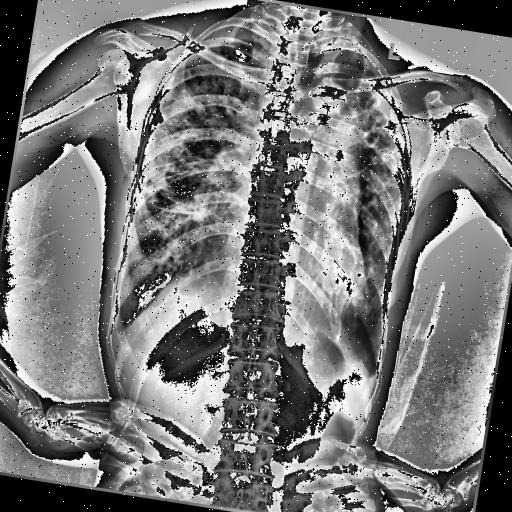1- Atelectasis: (281, 76, 413, 292)
10- Pleural effusion: (101, 310, 132, 350), (354, 360, 384, 396), (362, 354, 387, 388), (110, 316, 134, 344)
11- Pleural thickening: (124, 39, 187, 221), (360, 82, 422, 170), (310, 36, 390, 92), (308, 24, 387, 74), (197, 16, 273, 56), (101, 310, 132, 350), (354, 360, 384, 396), (362, 354, 387, 388), (105, 315, 128, 349), (359, 356, 379, 390), (110, 316, 134, 344)
13- Pulmonary fibrosis: (116, 42, 256, 282), (281, 76, 413, 292), (133, 138, 242, 221)
5- ILD: (116, 42, 256, 282), (281, 76, 413, 292)
6- Infiltration: (112, 0, 433, 362), (274, 63, 417, 345), (117, 34, 265, 300)
9- Other lesion: (116, 42, 256, 282), (281, 76, 413, 292)
